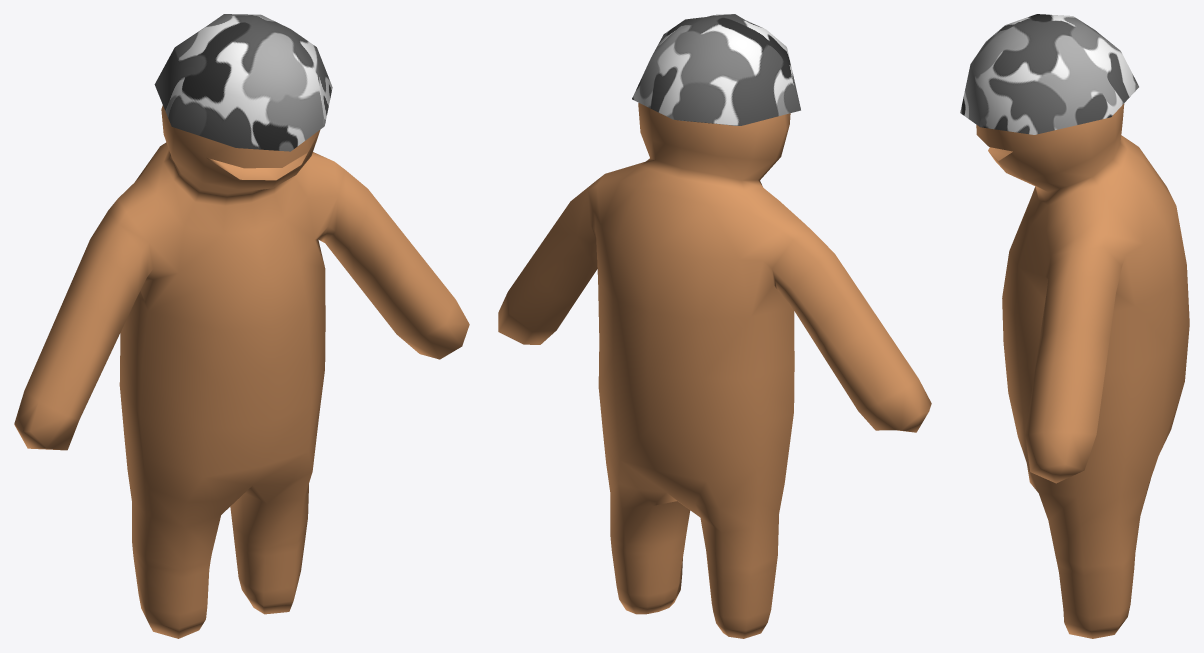
File: Bot.fbx
The picture shows the model from 3 angles, left to right: view 1: azimuth 30°, elevation 25°; view 2: azimuth 150°, elevation 25°; view 3: azimuth 270°, elevation 25°; orthographic projection. The views are drawn at different scales.
Parts seen in each view (by area): view 1: Bot, hat; view 2: Bot, hat; view 3: Bot, hat.
Boxes of the visible parts, <box> form: Bot: <box>14,105,469,638</box>; hat: <box>154,14,332,151</box>; Bot: <box>498,103,931,638</box>; hat: <box>632,14,800,125</box>; Bot: <box>976,103,1189,638</box>; hat: <box>960,14,1138,134</box>.
Size of the model in its own units: 27.94 by 36.65 by 12.99.
Materials: 2 (1 with a texture image).
